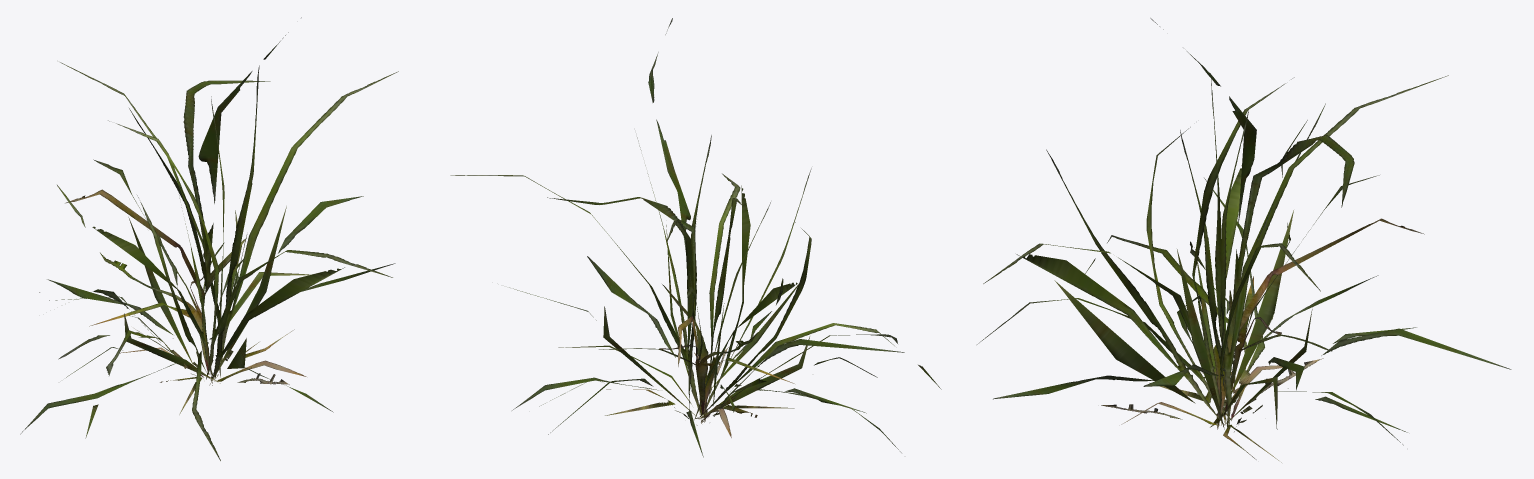
The model's file is grass-0-far.glb.
The picture shows the model from 3 angles, left to right: view 1: azimuth 30°, elevation 25°; view 2: azimuth 150°, elevation 25°; view 3: azimuth 270°, elevation 25°; orthographic projection. The views are drawn at different scales.
Visible parts, largest first — view 1: grass_medium_01_small_a_LOD0; view 2: grass_medium_01_small_a_LOD0; view 3: grass_medium_01_small_a_LOD0.
Boxes of the visible parts, x1,y1,x2,y2 form: grass_medium_01_small_a_LOD0: (20,17,398,460); grass_medium_01_small_a_LOD0: (450,18,941,457); grass_medium_01_small_a_LOD0: (977,18,1511,462).
Size of the model in its own units: 0.1682 by 0.1394 by 0.1531.
1 material, 1 textured.
